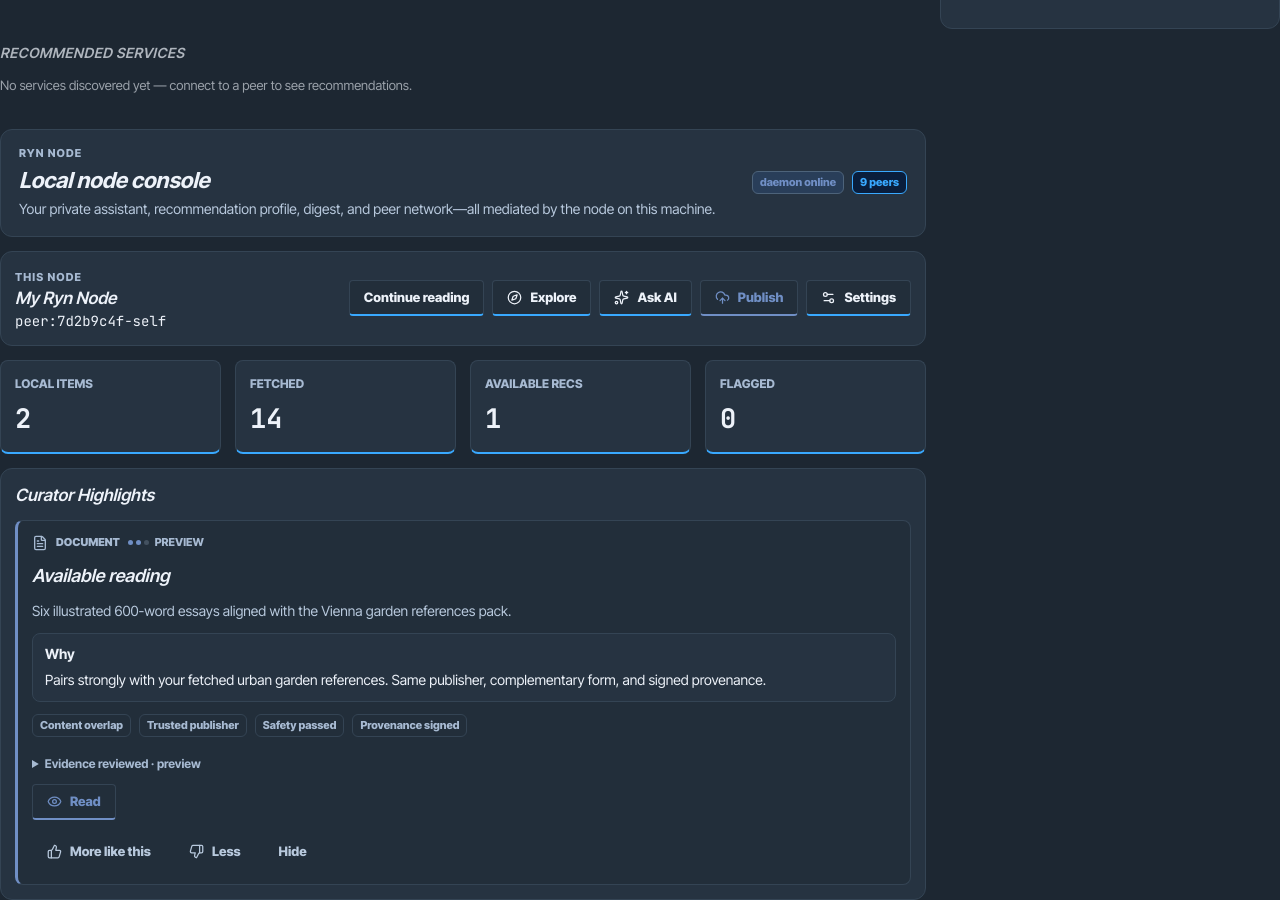
Test case: opens the existing reader even when activity is unavailable
(page scrolled)
Click the button "Read".
click(74, 802)  # box x1=32 y1=784 x2=116 y2=820
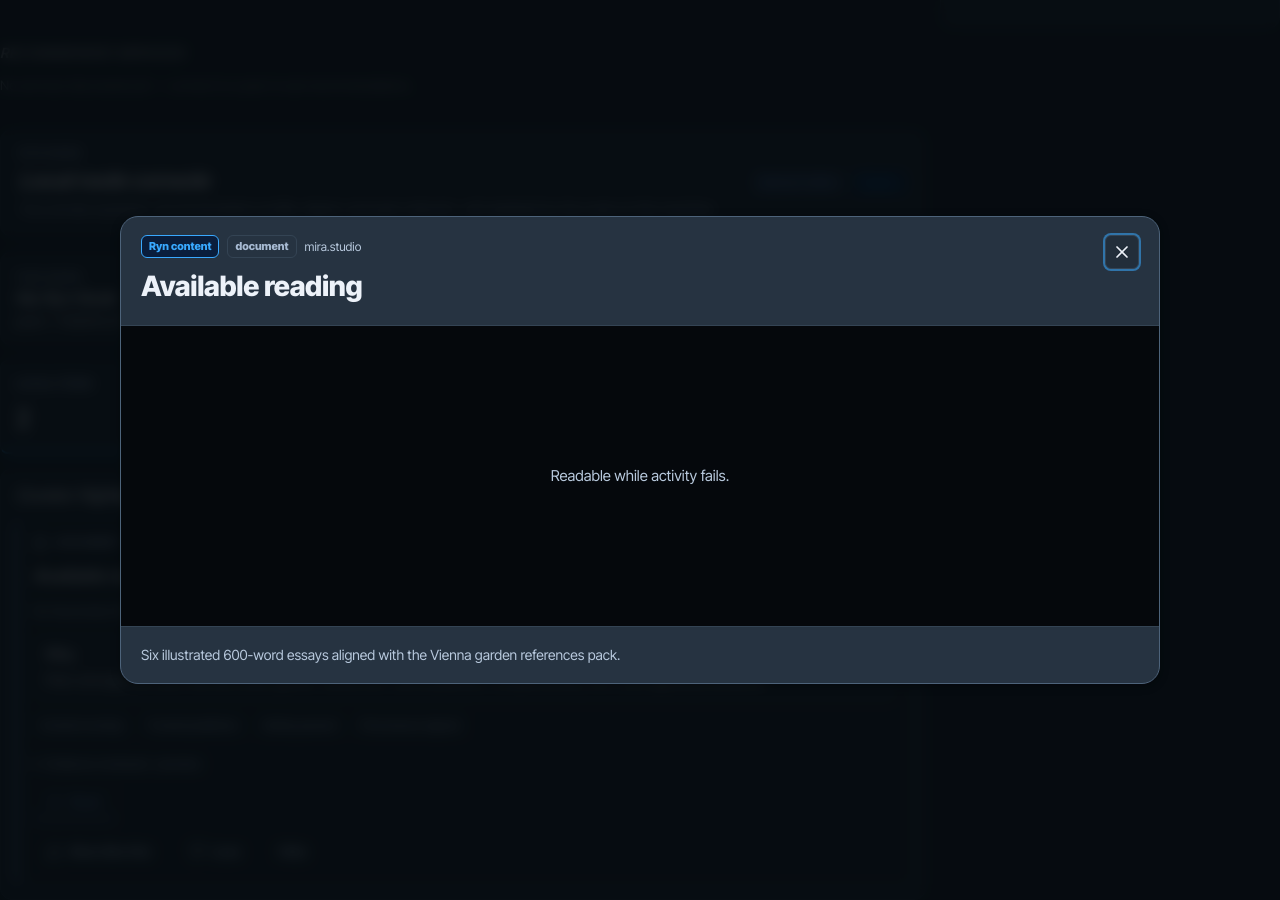
Check: the dialog "Available reading" is shown, box x1=120 y1=216 x2=1160 y2=684
Check: the text "Readable while activity fails." is shown, box x1=551 y1=465 x2=729 y2=487
